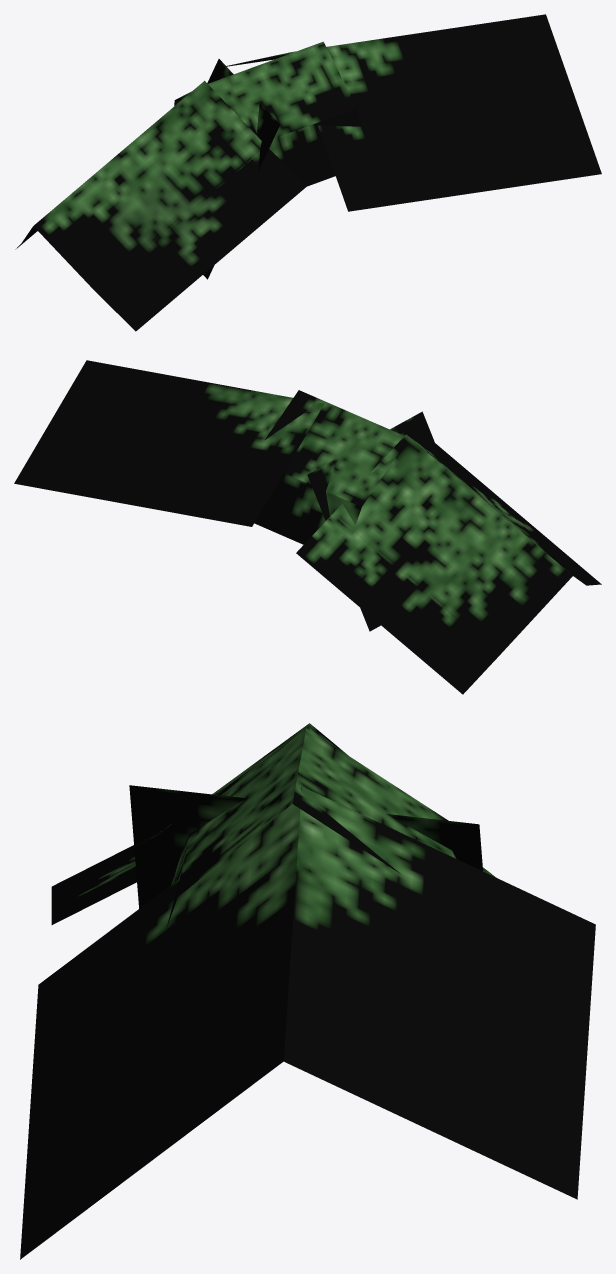
File: spruce_leaves_slab.obj
3 renders of one model, top to bottom at view 1: azimuth 30°, elevation 25°; view 2: azimuth 150°, elevation 25°; view 3: azimuth 270°, elevation 25°, orthographic. The views are drawn at different scales.
Parts seen in each view (by area): view 1: plane, cube; view 2: plane, cube; view 3: plane, cube.
Boxes of the visible parts, left/top/right/bottom form: plane: left=15, top=14, right=601, bottom=331; cube: left=203, top=59, right=279, bottom=279; plane: left=14, top=360, right=601, bottom=694; cube: left=307, top=411, right=441, bottom=631; plane: left=20, top=723, right=595, bottom=1259; cube: left=129, top=785, right=482, bottom=908.
Size of the model in its own units: 3.04 by 1.16 by 1.54.
